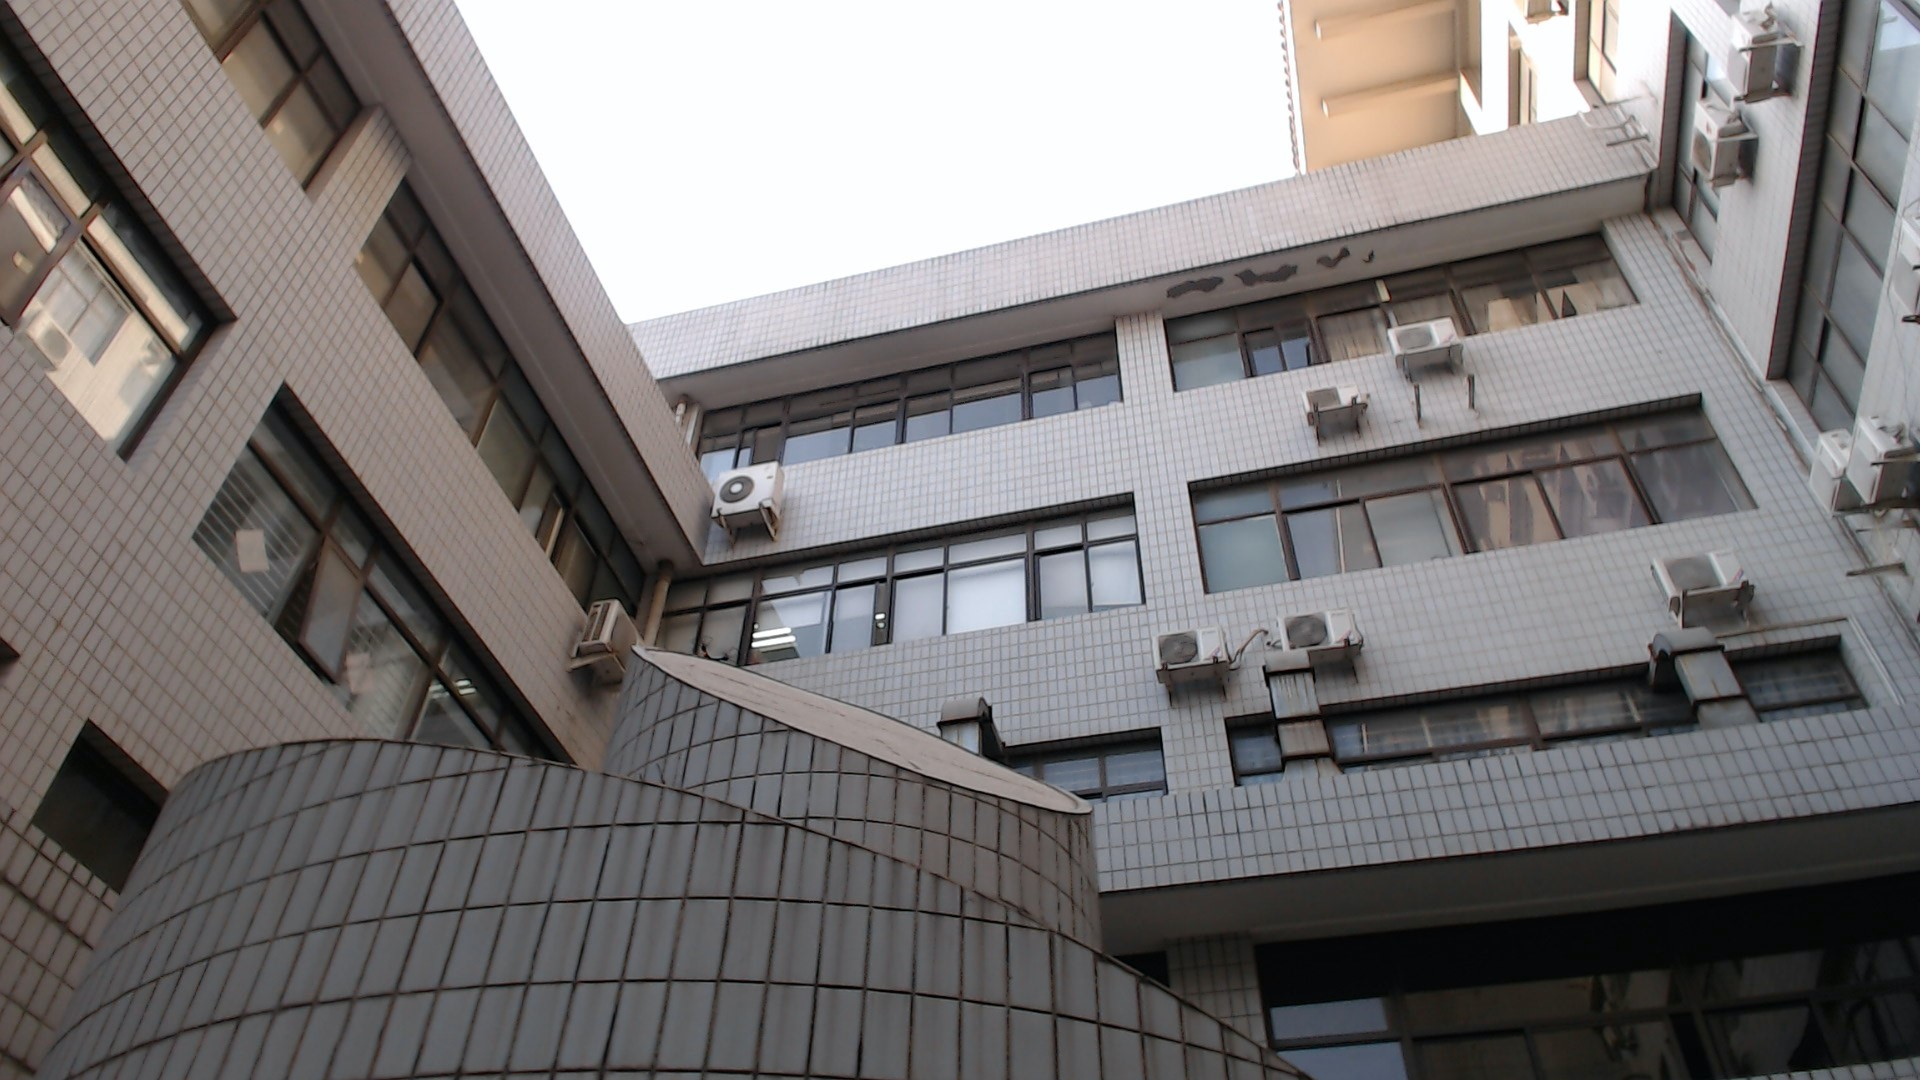drone: (680, 634, 741, 667)
